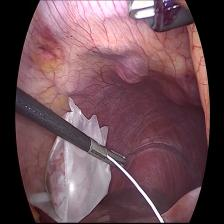Grasper: (88, 143, 129, 169)
Specimen Bag: (38, 102, 111, 224)
